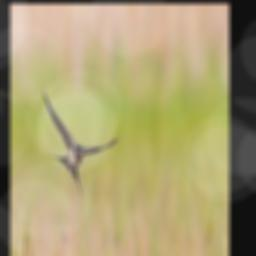Swallow: (44, 91, 118, 193)
